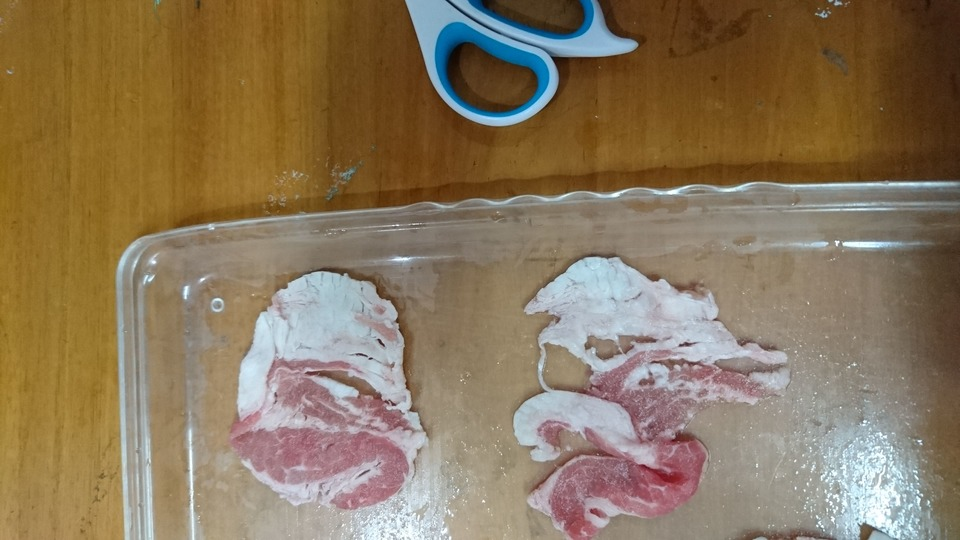restructured meat: (516, 250, 788, 540), (225, 264, 427, 508)
